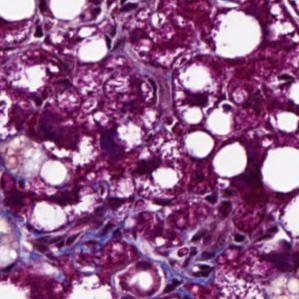inflammation: (83, 203, 155, 243), (169, 247, 217, 290), (29, 22, 84, 55), (174, 78, 220, 116)
